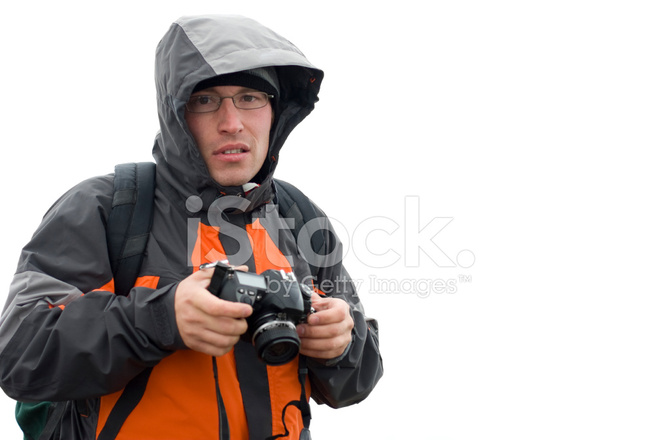confused: (187, 83, 273, 185)
